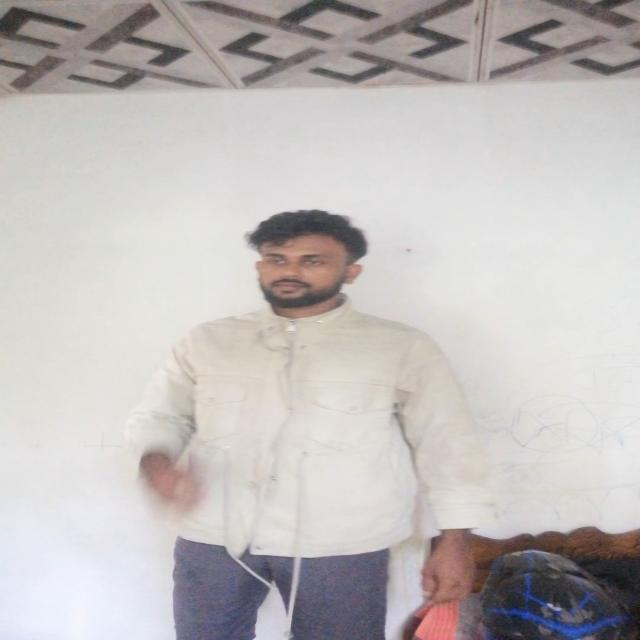Jacket_Wearer: (133, 303, 476, 570)
Person: (127, 210, 467, 640)
